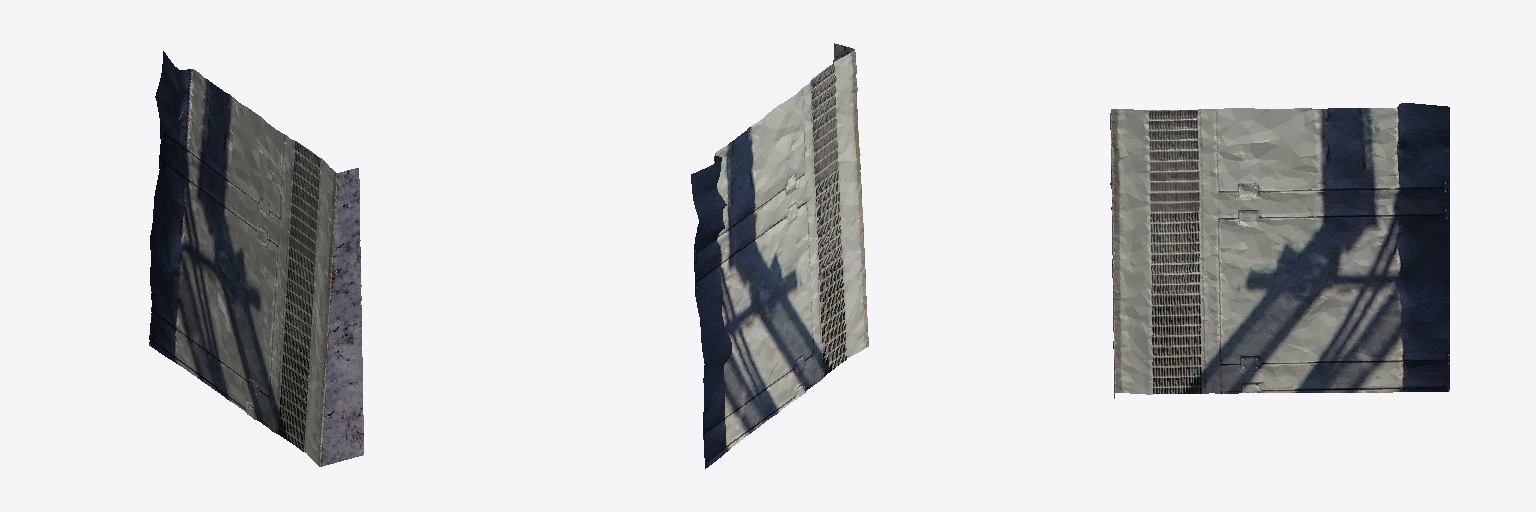
The picture shows the model from 3 angles: view 1: azimuth 30°, elevation 25°; view 2: azimuth 150°, elevation 25°; view 3: azimuth 270°, elevation 25°; orthographic projection.
Size of the model in its own units: 0.2847 by 1.54 by 1.62.
Materials: 2 (1 with a texture image).